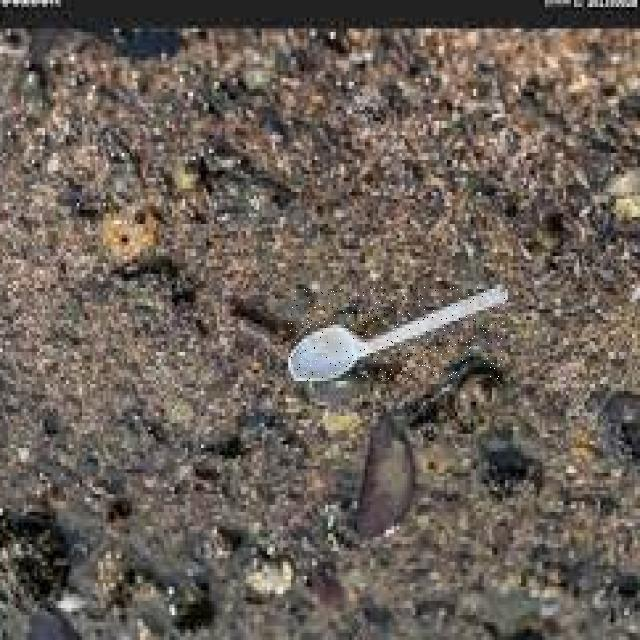plastic: (288, 287, 508, 381)
